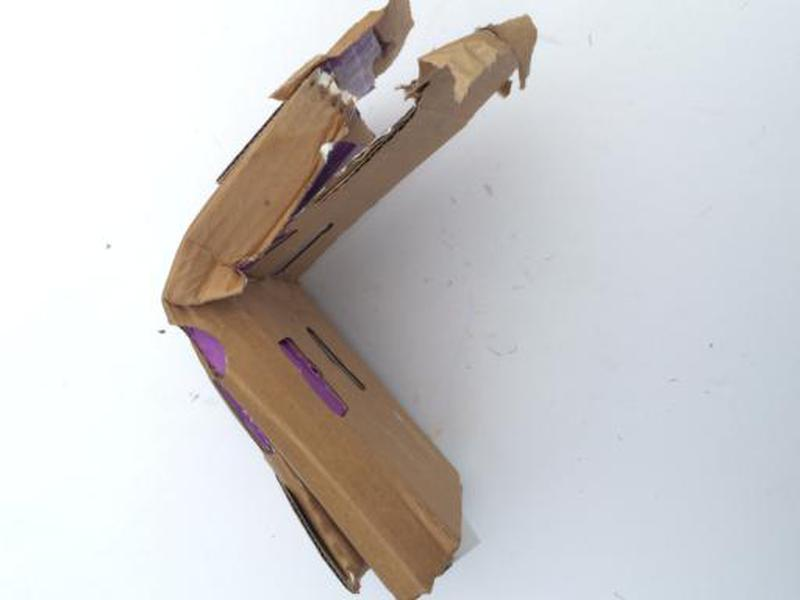cardboard: (151, 1, 551, 600)
